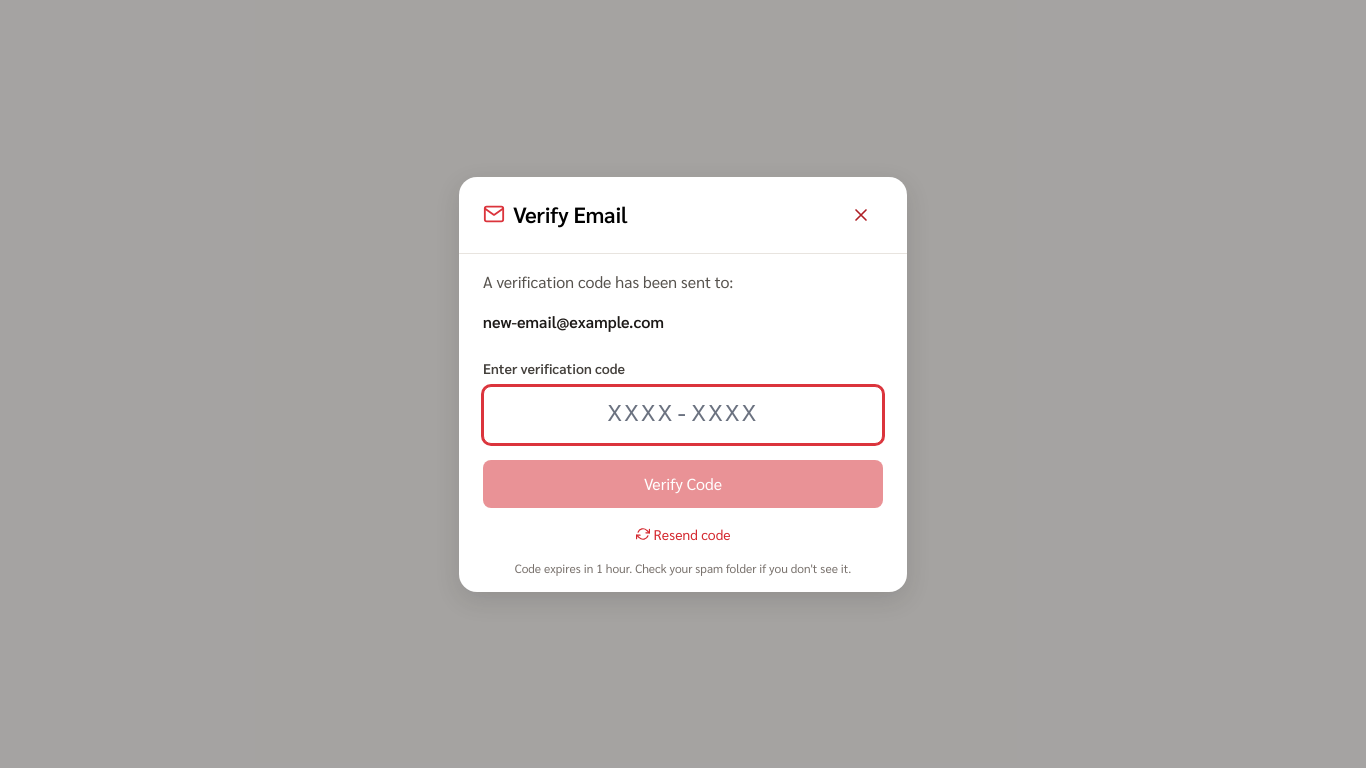
EmailVerificationModal › Code input formatting › should uppercase input and auto-insert a dash after 4 characters
This screenshot has width=1366, height=768.
Type "ab12cd34" into the field with test id "verification-code-input" at (683, 414), box [483, 386, 883, 444]
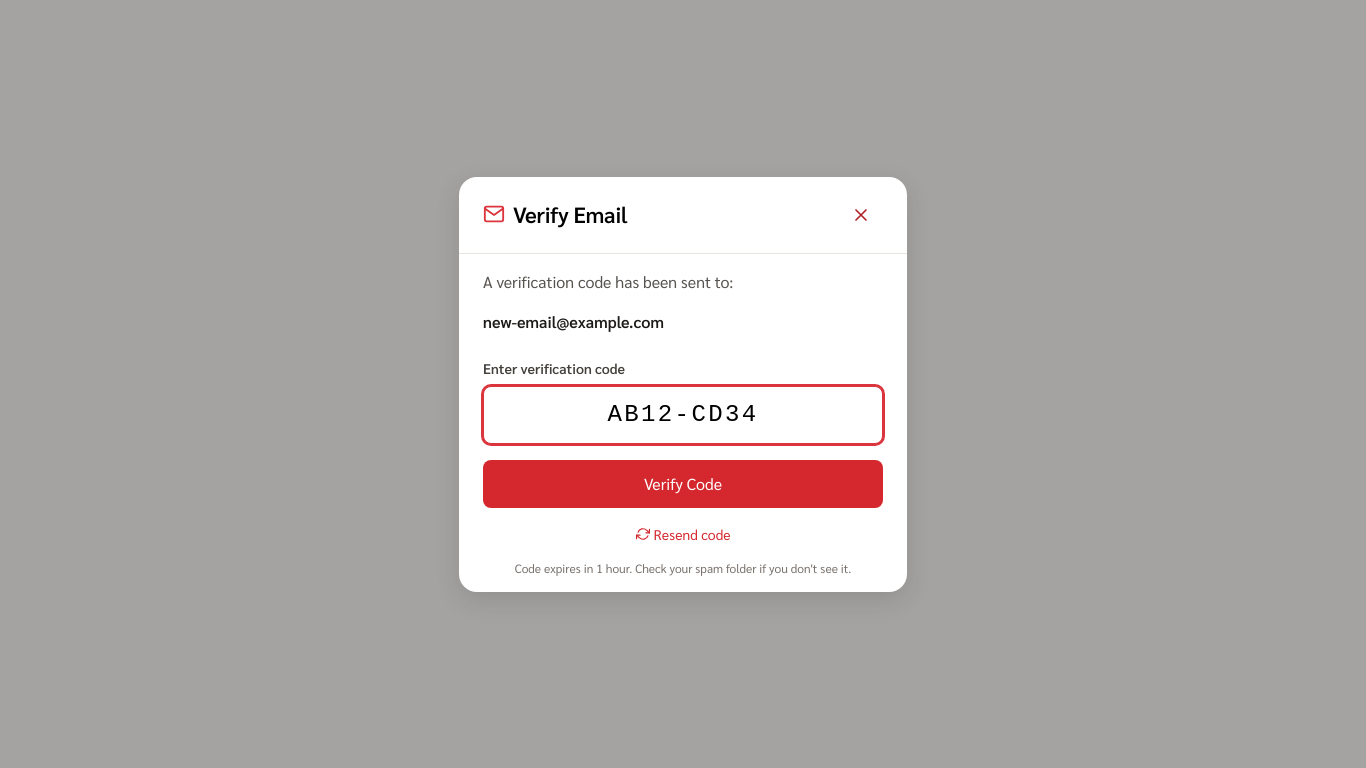
Expected: the field with test id "verification-code-input" holds "AB12-CD34", [483, 386, 883, 444]
